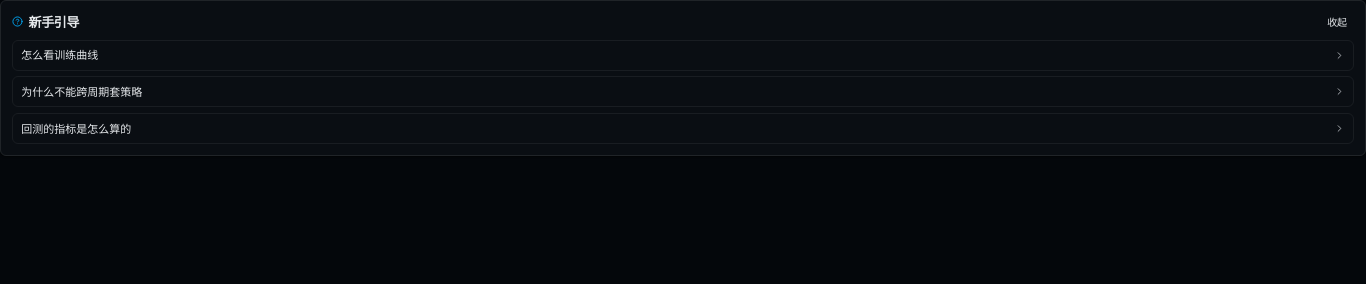
Scenario: AlphaMiningGuide 教学文案 › 回测指标主题展开含 8 指标术语
Click the button "回测的指标是怎么算的" at (76, 128), box [13,114,1353,143]
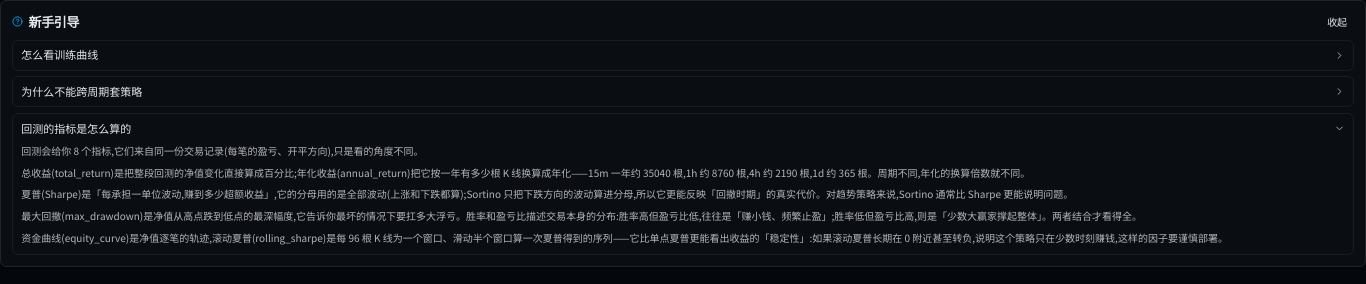
Now the text "Sortino" is shown, box [21,186,1073,201]
Now the text "最大回撤" is shown, box [21,208,1142,223]
Now the text "滚动夏普" is shown, box [21,230,1228,245]
